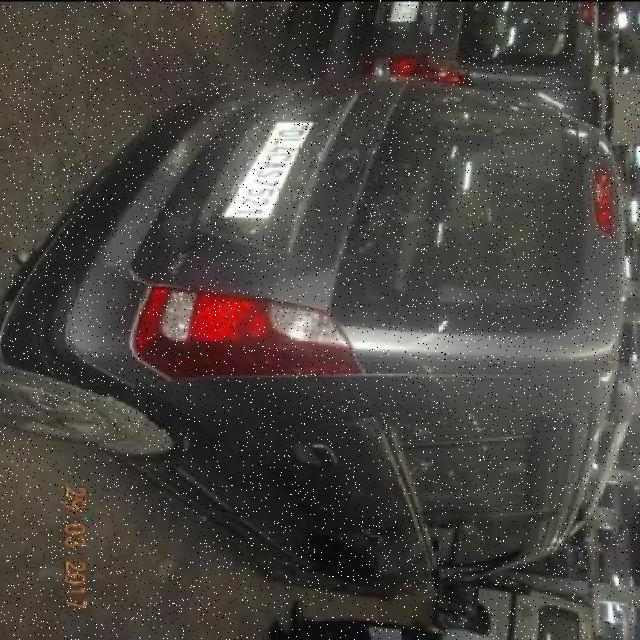damage: (123, 139, 189, 181), (282, 237, 338, 279), (156, 206, 204, 255)
